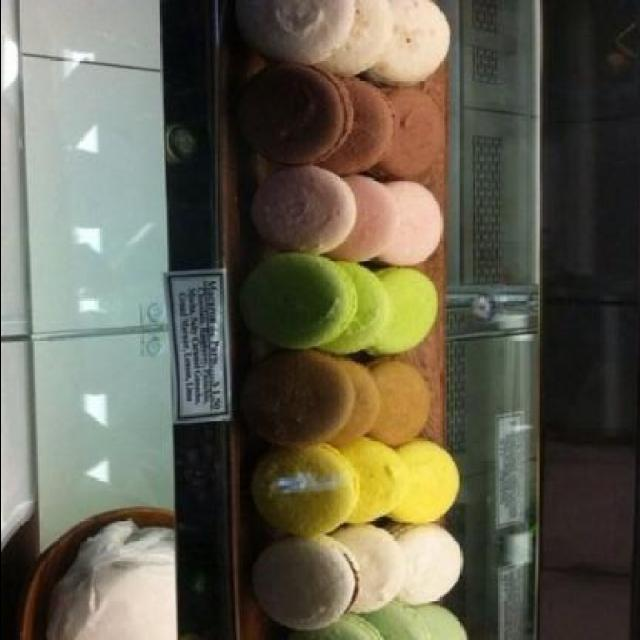Macaron: (227, 1, 467, 639)
